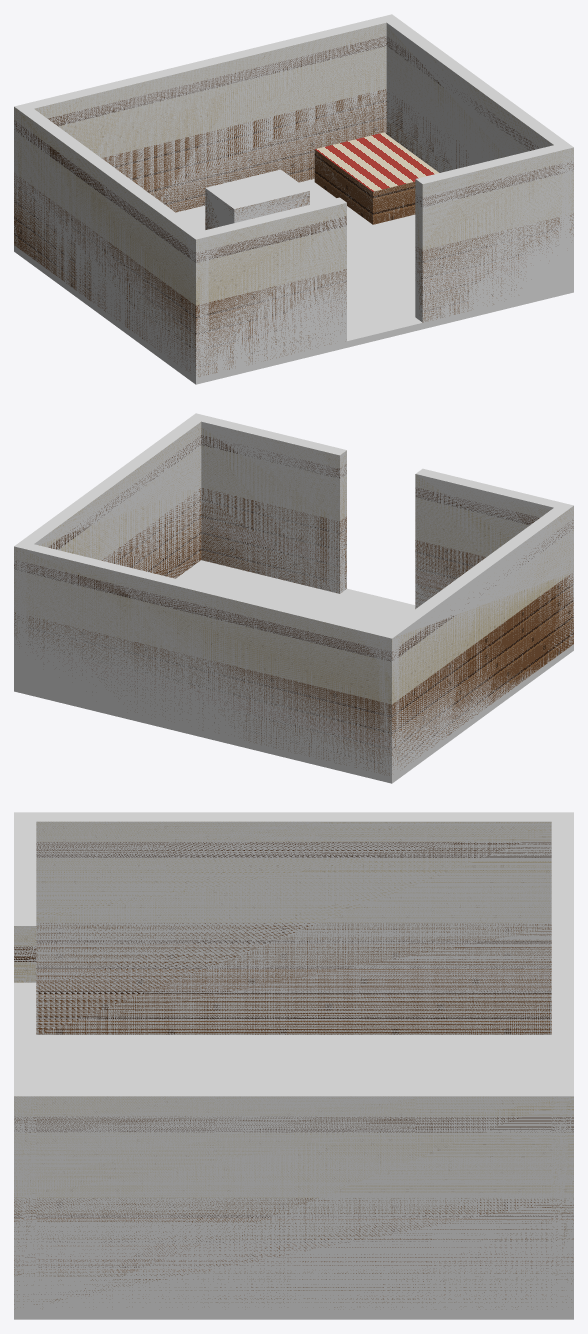
The model's file is interior.glb.
3 renders of one model, top to bottom at view 1: azimuth 30°, elevation 25°; view 2: azimuth 150°, elevation 25°; view 3: azimuth 270°, elevation 25°, orthographic. The views are drawn at different scales.
Visible parts, largest first — view 1: col_wall_north, col_wall_west, col_wall_south_w, col_wall_south_e, col_wall_east, wall_north_high, wall_north_low, col_floor, wall_west_high, wall_south_w_high, bed, wall_west_low (+7 smaller); view 2: col_wall_north, col_wall_west, col_wall_south_e, wall_north_high, col_wall_east, wall_west_low, col_wall_south_w, col_floor, wall_north_low, wall_south_e_low, wall_west_high, wall_south_e_high (+4 smaller); view 3: col_wall_east, col_wall_west, wall_west_low, col_floor, wall_west_high, wall_east_high, col_wall_north, wall_east_low, col_wall_south_e, col_wall_south_w, col_table, wall_south_w_high.
Boxes of the visible parts, left/top/right/bottom form: col_wall_north: left=14, top=14, right=396, bottom=256; col_wall_west: left=14, top=103, right=208, bottom=383; col_wall_south_w: left=188, top=197, right=346, bottom=383; col_wall_south_e: left=415, top=142, right=573, bottom=328; col_wall_east: left=380, top=14, right=573, bottom=295; wall_north_high: left=14, top=23, right=386, bottom=177; wall_north_low: left=14, top=89, right=386, bottom=249; col_floor: left=14, top=179, right=572, bottom=384; wall_west_high: left=14, top=107, right=208, bottom=304; wall_south_w_high: left=188, top=204, right=346, bottom=305; bed: left=314, top=132, right=438, bottom=224; wall_west_low: left=14, top=173, right=208, bottom=376; col_wall_north: left=14, top=541, right=399, bottom=783; col_wall_west: left=379, top=502, right=573, bottom=783; col_wall_south_e: left=190, top=414, right=346, bottom=593; wall_north_high: left=14, top=548, right=399, bottom=704; col_wall_east: left=14, top=413, right=207, bottom=694; wall_west_low: left=380, top=576, right=573, bottom=767; col_wall_south_w: left=415, top=468, right=573, bottom=650; col_floor: left=14, top=560, right=573, bottom=783; wall_north_low: left=15, top=613, right=398, bottom=775; wall_south_e_low: left=201, top=488, right=346, bottom=593; wall_west_high: left=379, top=508, right=573, bottom=704; wall_south_e_high: left=201, top=427, right=346, bottom=520; col_wall_east: left=14, top=1087, right=573, bottom=1319; col_wall_west: left=14, top=812, right=573, bottom=1034; wall_west_low: left=36, top=923, right=551, bottom=1034; col_floor: left=14, top=1035, right=573, bottom=1319; wall_west_high: left=36, top=821, right=551, bottom=922; wall_east_high: left=14, top=1096, right=573, bottom=1197; col_wall_north: left=551, top=812, right=573, bottom=1319; wall_east_low: left=14, top=1198, right=573, bottom=1307; col_wall_south_e: left=14, top=982, right=36, bottom=1319; col_wall_south_w: left=14, top=812, right=36, bottom=982; col_table: left=361, top=1063, right=450, bottom=1086; wall_south_w_high: left=14, top=926, right=36, bottom=982.
Bounding box in the file's own units: 6 × 2.2 × 5.
Materials: 4 (4 with a texture image).
